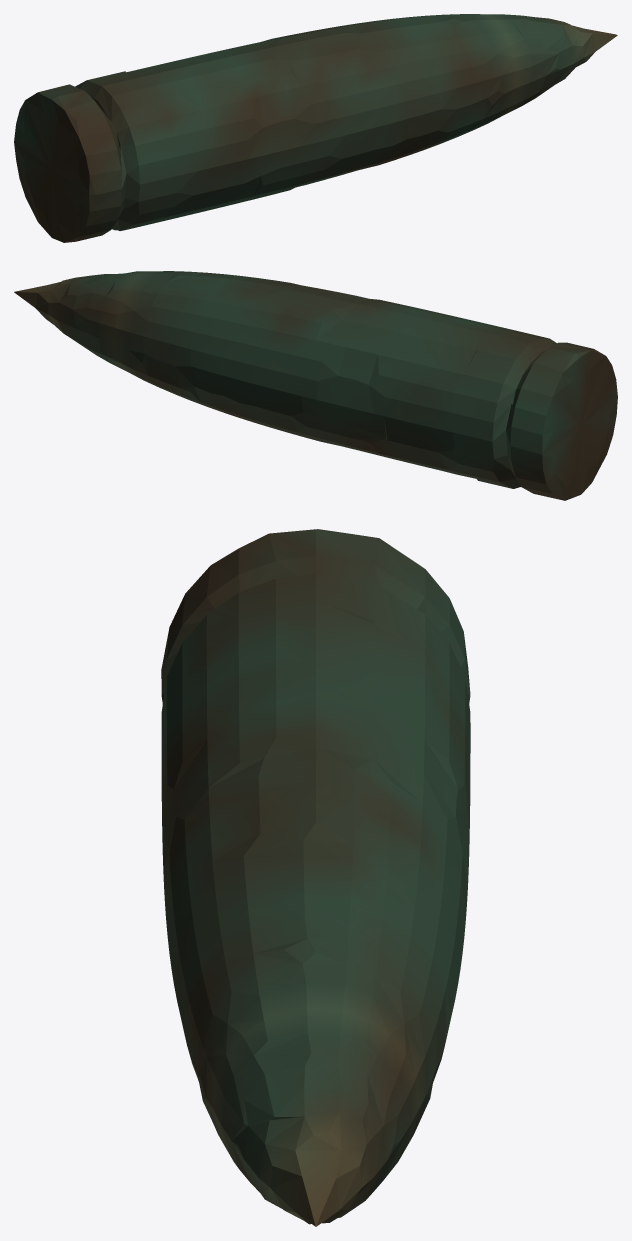
Rendered from old-bullet.gltf.
3 views of the same model, one above another, from view 1: azimuth 30°, elevation 25°; view 2: azimuth 150°, elevation 25°; view 3: azimuth 270°, elevation 25° (orthographic). The views are drawn at different scales.
Visible parts, largest first — view 1: old-bullet; view 2: old-bullet; view 3: old-bullet.
Boxes of the visible parts, <box> form: old-bullet: <box>14,14,617,242</box>; old-bullet: <box>14,271,617,500</box>; old-bullet: <box>161,529,470,1226</box>.
Size of the model in its own units: 0.035 by 0.00833 by 0.00826.
